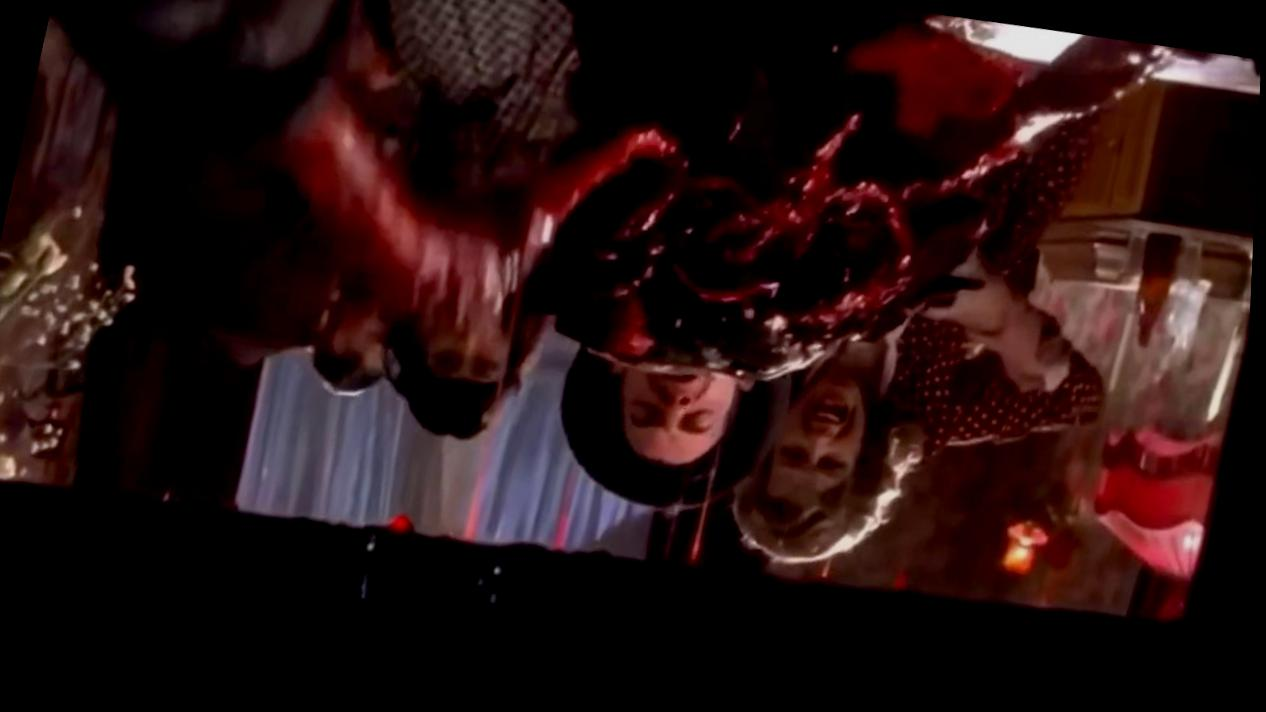Fire: (291, 31, 1160, 385)
